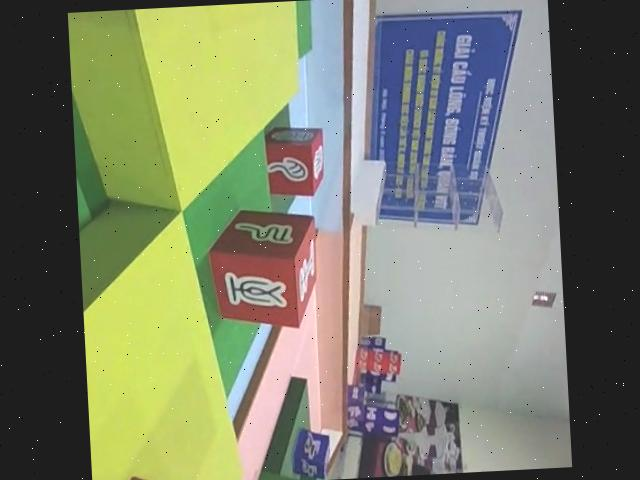R2 Fake: (204, 202, 324, 335), (262, 121, 332, 200)
